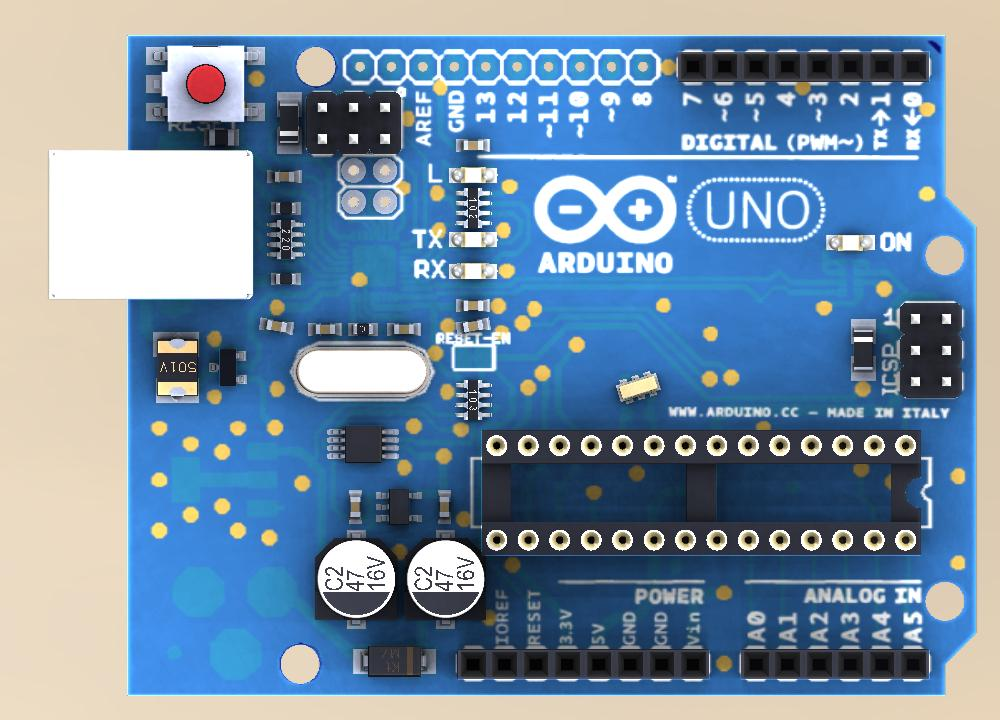16MHz Crystal: (611, 370, 665, 404)
47uF CAP: (404, 533, 488, 631), (313, 534, 401, 627)
CD1206: (274, 89, 305, 158), (848, 317, 879, 383)
Capa: (256, 316, 297, 341), (452, 296, 491, 316), (265, 167, 305, 186), (346, 489, 365, 526), (385, 319, 424, 337), (454, 136, 492, 154), (306, 322, 344, 339), (436, 489, 454, 524), (455, 319, 493, 335)
Crystal: (293, 342, 434, 403)
Fuse: (152, 331, 202, 406)
LED: (447, 260, 497, 283), (449, 229, 499, 250), (447, 167, 500, 186), (827, 233, 877, 253)
LMV358: (375, 488, 423, 527)
M7 diode: (349, 645, 439, 679)
Missing: (120, 561, 296, 700), (130, 421, 297, 549), (346, 44, 661, 87)
PIN Header: (898, 303, 965, 400), (309, 90, 402, 157)
Ports: (675, 46, 932, 88), (455, 644, 714, 685), (740, 644, 932, 683)
Reset: (143, 43, 268, 125)
Resistor: (203, 124, 241, 148), (269, 198, 304, 217), (346, 320, 380, 339), (271, 271, 304, 289)
Resistor pack: (454, 374, 494, 423), (266, 219, 307, 262), (456, 185, 494, 230)
SSOT3: (208, 349, 250, 387)
USB: (49, 151, 256, 302)
lp2985: (325, 424, 402, 466)
